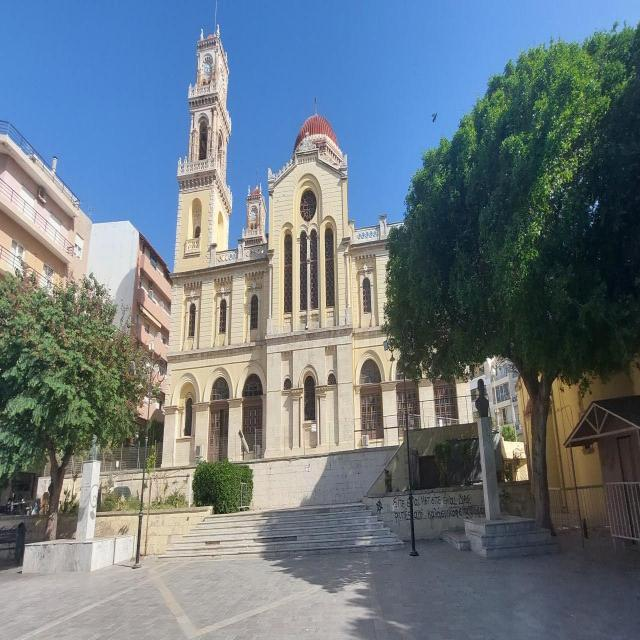Agios Minas: (162, 6, 476, 473)
